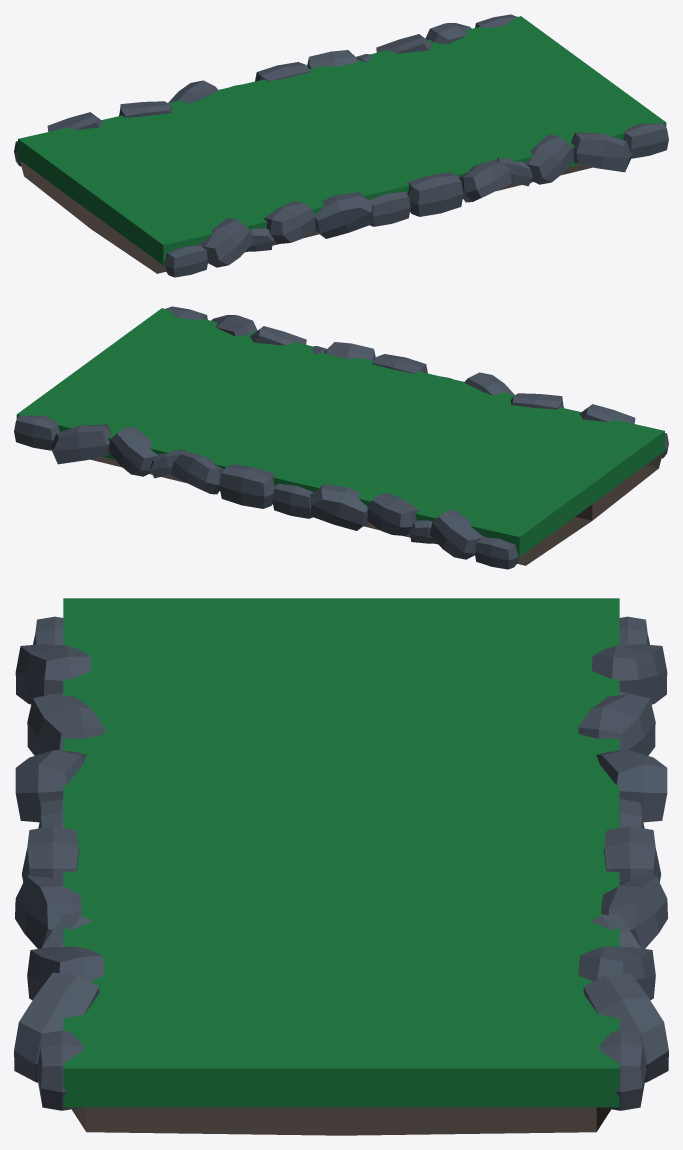
The model's file is platform4x-grass.glb.
3 views of the same model, one above another, from view 1: azimuth 30°, elevation 25°; view 2: azimuth 150°, elevation 25°; view 3: azimuth 270°, elevation 25° (orthographic). The views are drawn at different scales.
Visible parts, largest first — view 1: Cube; view 2: Cube; view 3: Cube.
Boxes of the visible parts, <box> form: Cube: <box>14,14,668,277</box>; Cube: <box>14,306,668,569</box>; Cube: <box>14,598,668,1135</box>.
Size of the model in its own units: 4.01 by 0.3418 by 2.35.
Materials: 1 (1 with a texture image).
